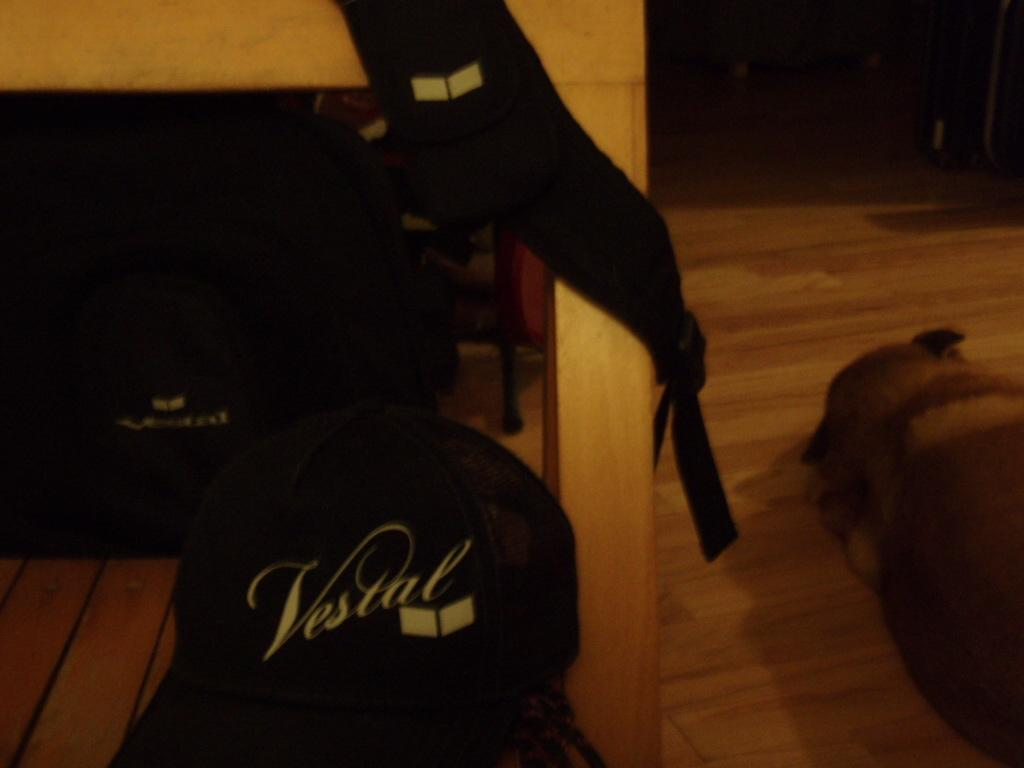Hat: (105, 410, 581, 766)
